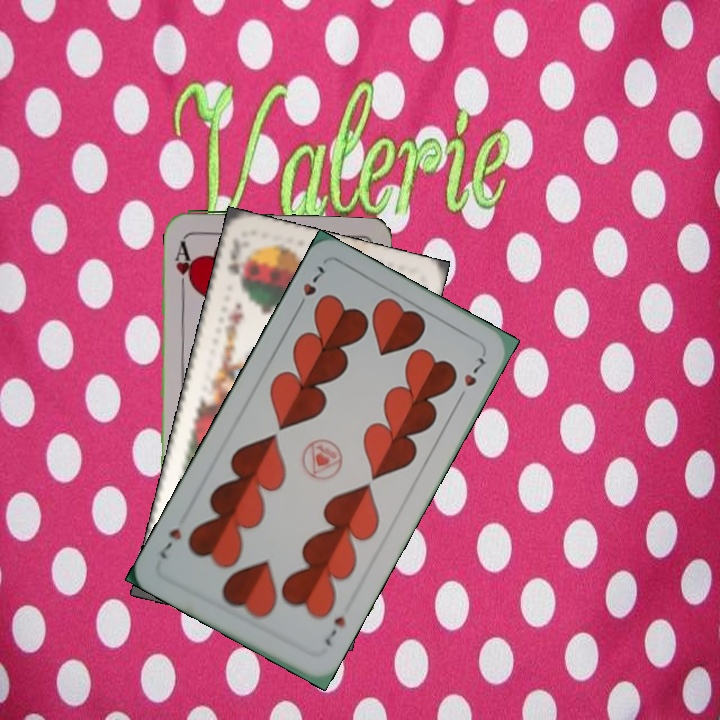H7: (292, 261, 327, 314), (320, 612, 348, 649)
HA: (170, 234, 196, 294)
SK: (224, 250, 248, 292)
